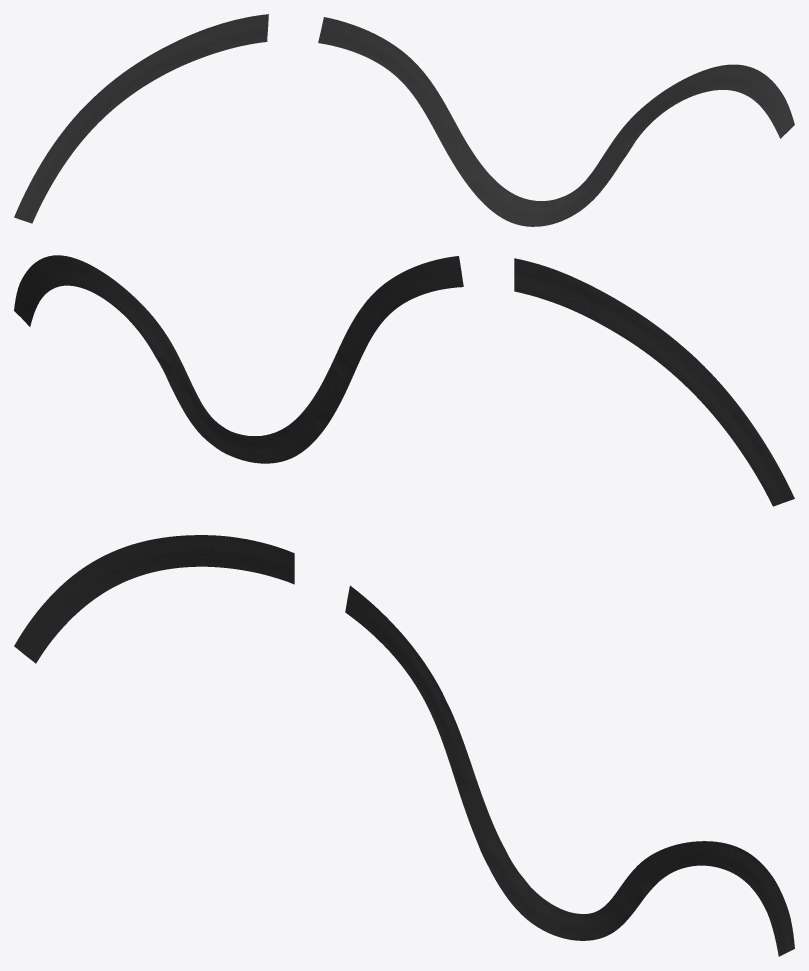
3 views of the same model, one above another, from view 1: azimuth 30°, elevation 25°; view 2: azimuth 150°, elevation 25°; view 3: azimuth 330°, elevation 25° (orthographic). The views are drawn at different scales.
Bounding box in the file's own units: 200 × 67.28 × 24.12.
1 material, 1 textured.
